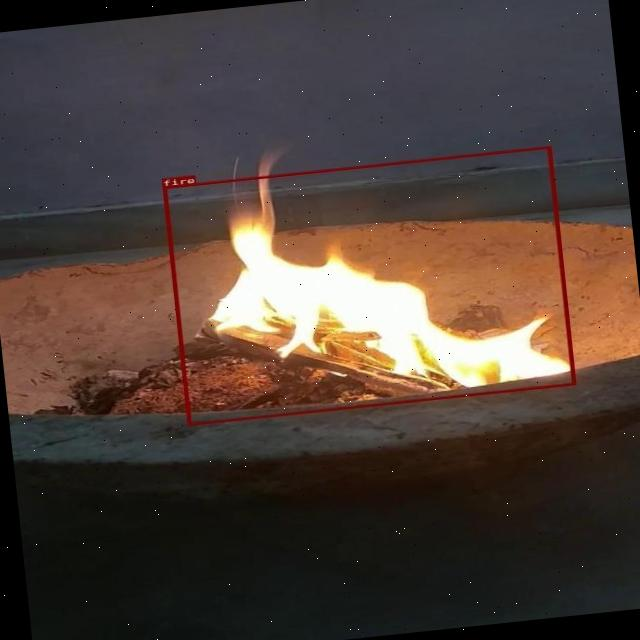fire: (162, 145, 575, 424)
